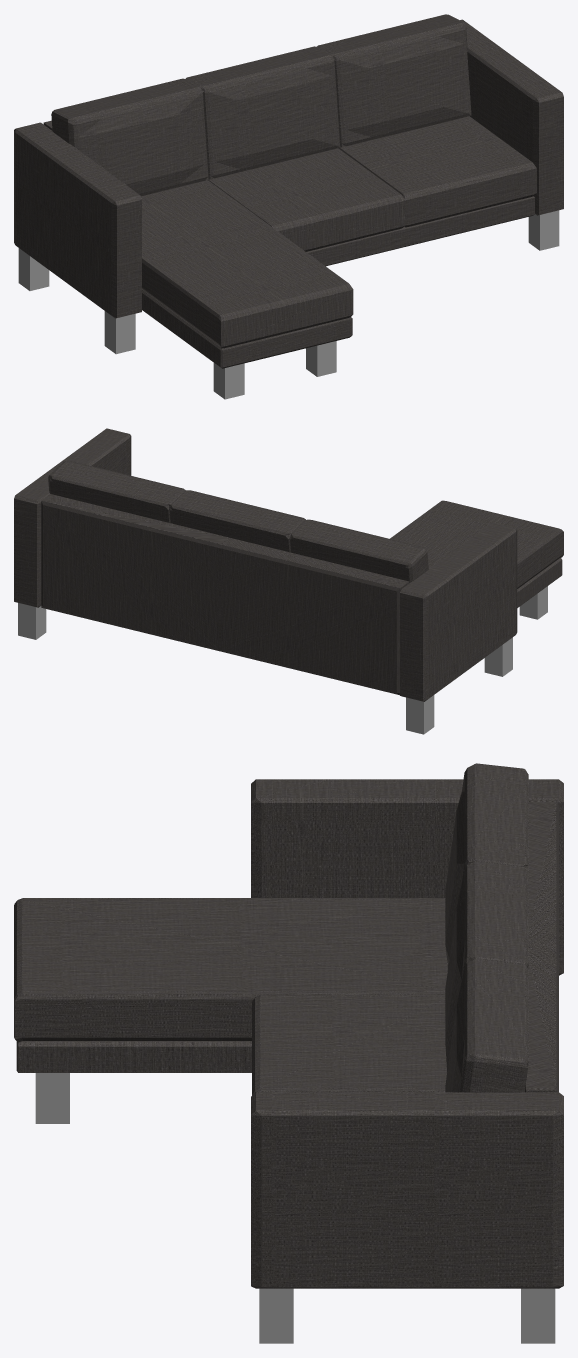
File: couch2.obj
The picture shows the model from 3 angles, top to bottom: view 1: azimuth 30°, elevation 25°; view 2: azimuth 150°, elevation 25°; view 3: azimuth 270°, elevation 25°; orthographic projection. The views are drawn at different scales.
Parts seen in each view (by area): view 1: couch_Plane.002; view 2: couch_Plane.002; view 3: couch_Plane.002.
Part boxes in pixels (x1=…): couch_Plane.002: x1=14, y1=14, x2=563, y2=399; couch_Plane.002: x1=14, y1=428, x2=563, y2=734; couch_Plane.002: x1=14, y1=763, x2=563, y2=1343.
Bounding box in the file's own units: 230 × 86.59 × 160.
